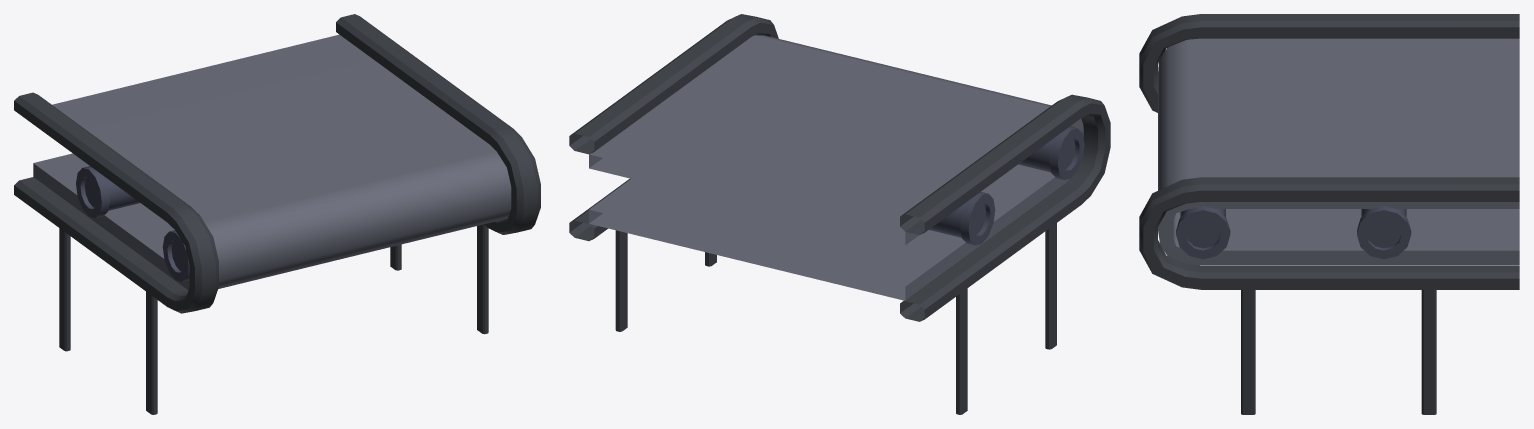
Rendered from SM_Conveyor_End.fbx.
3 renders of one model, left to right at view 1: azimuth 30°, elevation 25°; view 2: azimuth 150°, elevation 25°; view 3: azimuth 270°, elevation 25°, orthographic. The views are drawn at different scales.
Visible parts, largest first — view 1: SM_Conveyor_End, axle1, axle; view 2: SM_Conveyor_End, axle, axle1; view 3: SM_Conveyor_End, axle1, axle.
Part boxes in pixels (left/top/right/bottom): SM_Conveyor_End: left=14, top=14, right=540, bottom=414; axle1: left=76, top=166, right=139, bottom=218; axle: left=162, top=230, right=189, bottom=281; SM_Conveyor_End: left=569, top=14, right=1110, bottom=414; axle: left=1018, top=126, right=1084, bottom=179; axle1: left=929, top=192, right=995, bottom=245; SM_Conveyor_End: left=1139, top=14, right=1519, bottom=414; axle1: left=1357, top=206, right=1411, bottom=259; axle: left=1176, top=206, right=1230, bottom=259.
Bounding box in the file's own units: 230 × 140 × 210.
